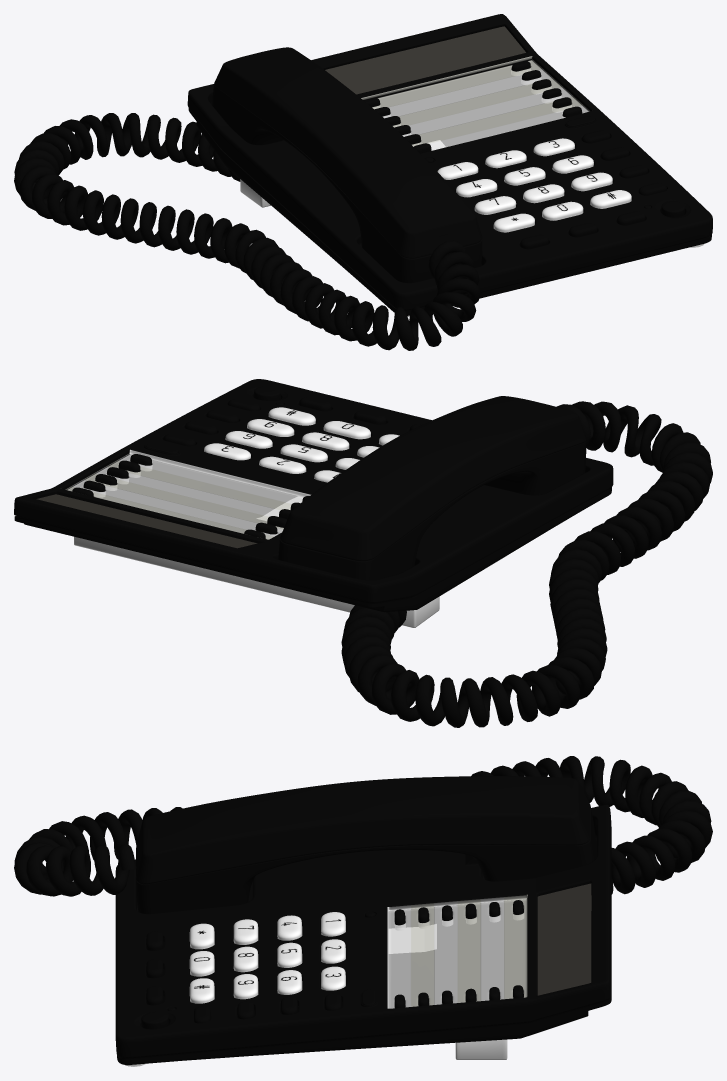
Rendered from Phone.glb.
The picture shows the model from 3 angles, top to bottom: view 1: azimuth 30°, elevation 25°; view 2: azimuth 150°, elevation 25°; view 3: azimuth 270°, elevation 25°; orthographic projection. The views are drawn at different scales.
Parts seen in each view (by area): view 1: Plane.001, Circle.001, Plane.038_Plane.000, Plane.037, Plane.036, Plane.029, Plane.030, Plane.027, Plane.025, Plane.028, Plane.031, Plane.023 (+4 smaller); view 2: Plane.001, Circle.001, Plane.038_Plane.000, Plane.037, Cube, Plane.036, Plane.030, Plane.027, Plane.031, Plane.025, Plane.023, Plane.024 (+2 smaller); view 3: Plane.001, Plane.038_Plane.000, Circle.001, Plane.037, Plane.036, Plane, Cube, Plane.029, Plane.028, Plane.027, Plane.030, Plane.025 (+7 smaller).
Boxes of the visible parts, <box> form: Plane.001: <box>187,14,712,311</box>; Circle.001: <box>14,113,480,350</box>; Plane.038_Plane.000: <box>212,47,482,282</box>; Plane.037: <box>188,64,711,315</box>; Plane.036: <box>325,26,525,94</box>; Plane.029: <box>493,213,534,232</box>; Plane.030: <box>542,201,583,220</box>; Plane.027: <box>523,184,564,203</box>; Plane.025: <box>571,172,612,191</box>; Plane.028: <box>474,196,516,214</box>; Plane.031: <box>590,190,631,208</box>; Plane.023: <box>504,167,545,185</box>; Plane.001: <box>14,379,613,604</box>; Circle.001: <box>341,401,712,727</box>; Plane.038_Plane.000: <box>278,396,586,580</box>; Plane.037: <box>14,460,611,612</box>; Cube: <box>74,536,439,627</box>; Plane.036: <box>36,494,257,548</box>; Plane.030: <box>323,421,370,439</box>; Plane.027: <box>302,432,349,450</box>; Plane.031: <box>268,407,315,425</box>; Plane.025: <box>247,419,294,436</box>; Plane.023: <box>280,444,327,462</box>; Plane.024: <box>225,431,272,448</box>; Plane.001: <box>115,804,611,1058</box>; Plane.038_Plane.000: <box>136,776,595,913</box>; Circle.001: <box>14,756,712,896</box>; Plane.037: <box>116,827,611,1064</box>; Plane.036: <box>537,883,591,995</box>; Plane: <box>389,924,436,953</box>; Cube: <box>455,1039,507,1059</box>; Plane.029: <box>189,923,214,949</box>; Plane.028: <box>233,919,258,944</box>; Plane.027: <box>233,946,258,972</box>; Plane.030: <box>189,951,214,976</box>; Plane.025: <box>233,974,258,999</box>.
Bounding box in the file's own units: 25.35 × 5.55 × 27.06.
Materials: 11 (3 with a texture image).
